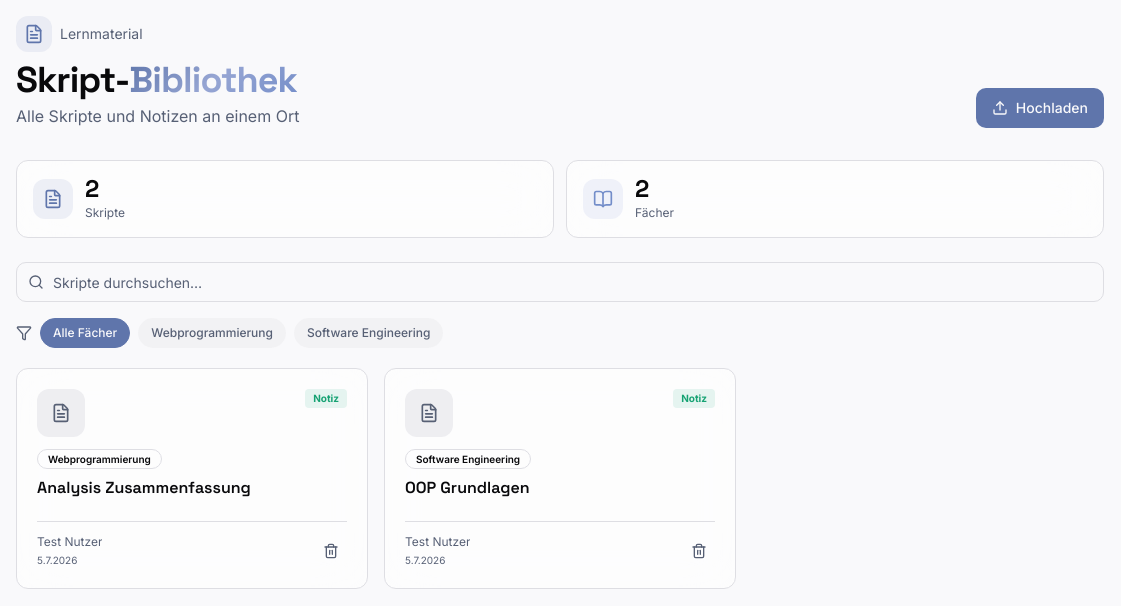
Test: SkriptePage – Suche und Subject-Filter › Subject-Filter blendet andere Vorlesungen aus
The image size is (1121, 606).
# Subject-Filter-Buttons erscheinen sobald Skripte geladen sind
Click the button "Webprogrammierung". click: (212, 333)
box: [138,318,286,348]
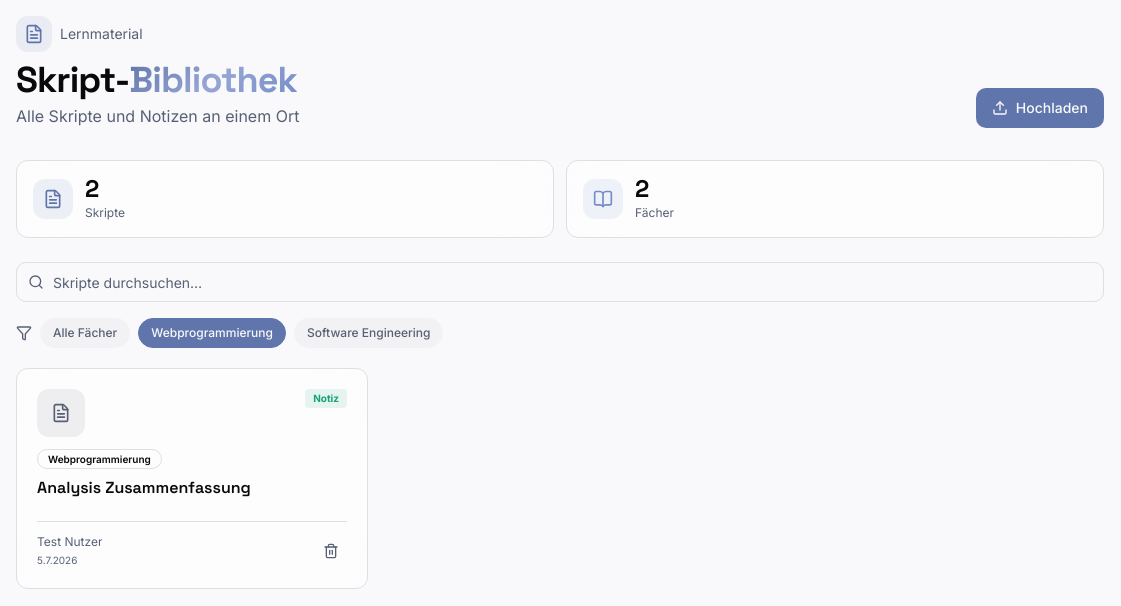
Expected: the heading "Analysis Zusammenfassung" is shown, [37,477,251,498]
Result: the heading "OOP Grundlagen" is gone
